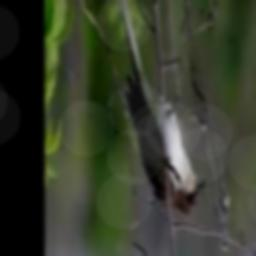Cuckoo: (113, 0, 206, 218)
